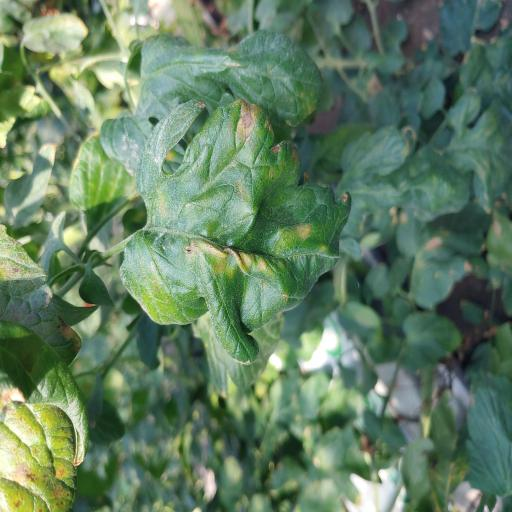Leaf Mold: (120, 98, 352, 364), (100, 26, 322, 178)
